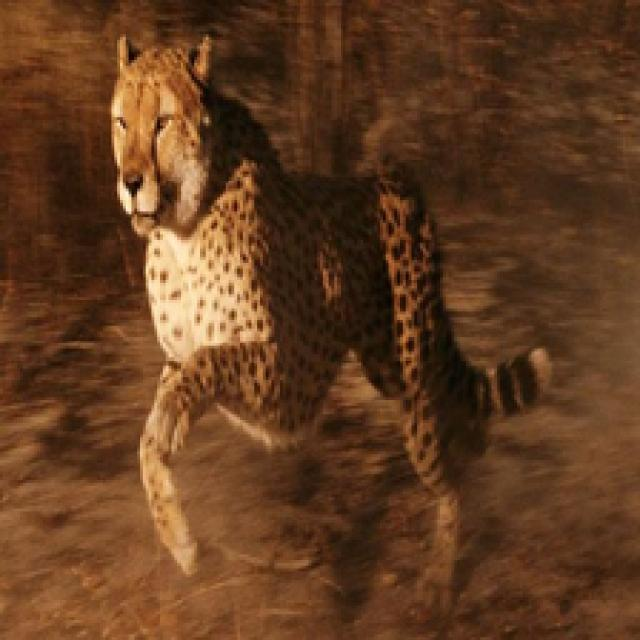cheetah: (90, 27, 544, 601)
